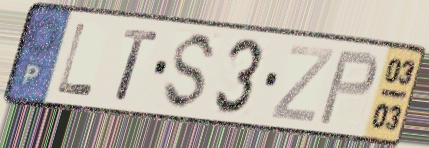3: (212, 36, 267, 118)
L: (54, 21, 96, 99)
P: (315, 48, 381, 128)
S: (160, 30, 221, 114)
T: (113, 25, 161, 104)
Z: (267, 42, 338, 125)
